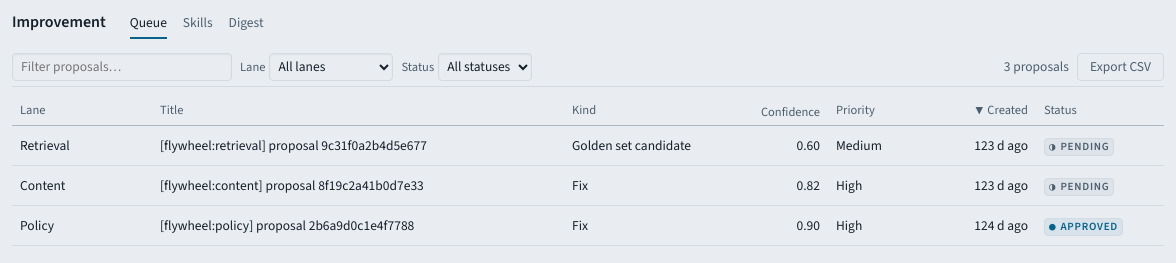
Test: §11 queue — the table › a filtered-to-nothing queue says so and offers the whole window back
Select "Ontology" in the dropdown labelled "Lane" at (331, 66), box [269,52,393,80]
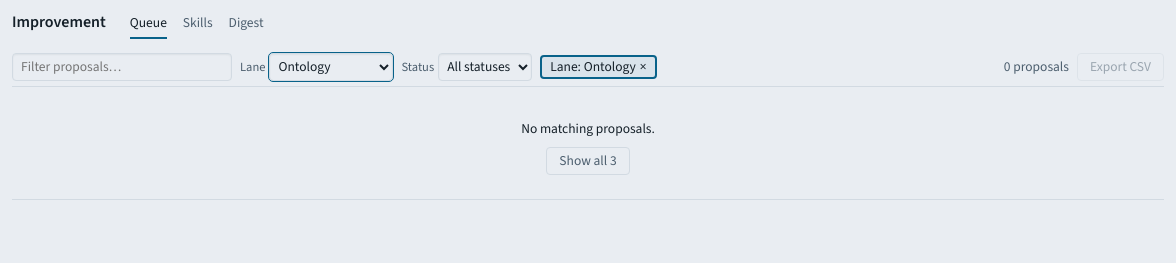
Expected: the text "No matching proposals." is shown, [521,119,655,139]
Expected: the button "Show all 3" is shown, [546,147,630,175]
